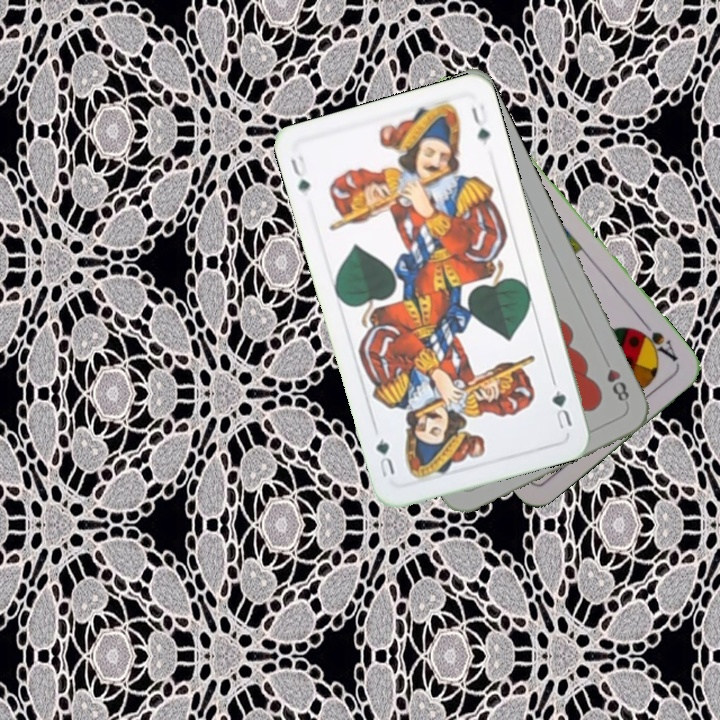GU: (547, 386, 575, 432), (286, 151, 313, 196)
H8: (602, 364, 632, 404)
SA: (632, 317, 681, 365)
